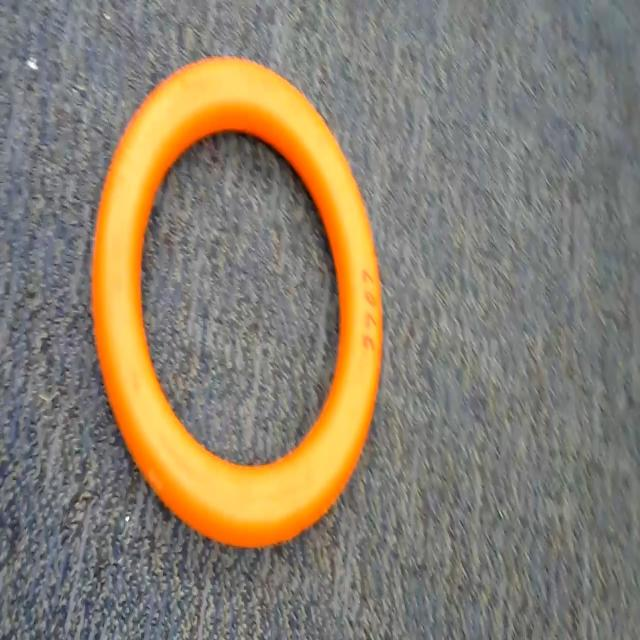note: (89, 50, 399, 575)
